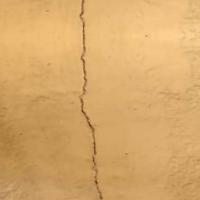crack: (55, 0, 122, 199)
